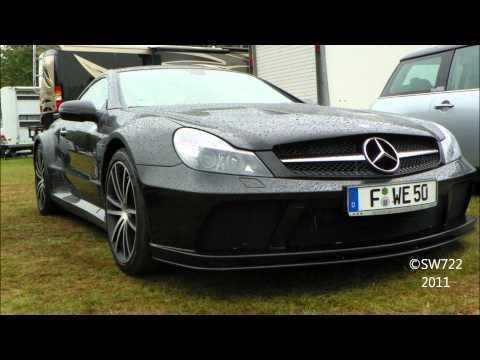placa de veiculo: (339, 174, 453, 224)
